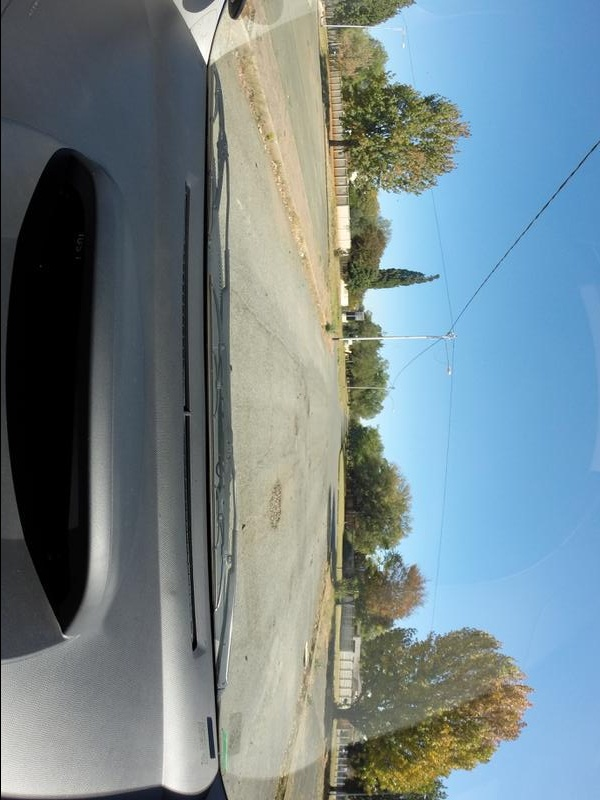pothole: (269, 483, 283, 539), (290, 414, 300, 445)
